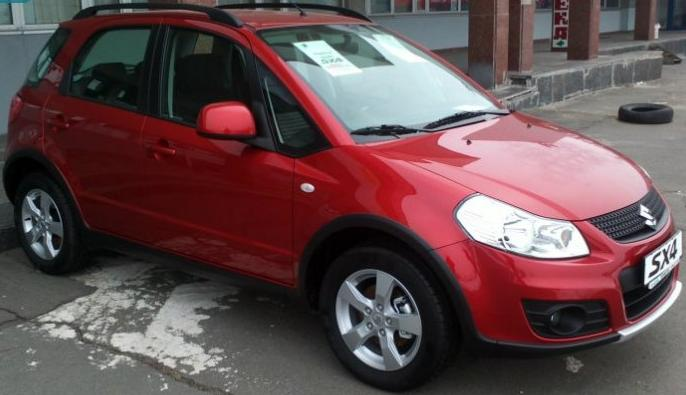front_view: (444, 164, 681, 347)
headlight: (442, 175, 593, 269)
side_glass: (57, 19, 318, 155)
